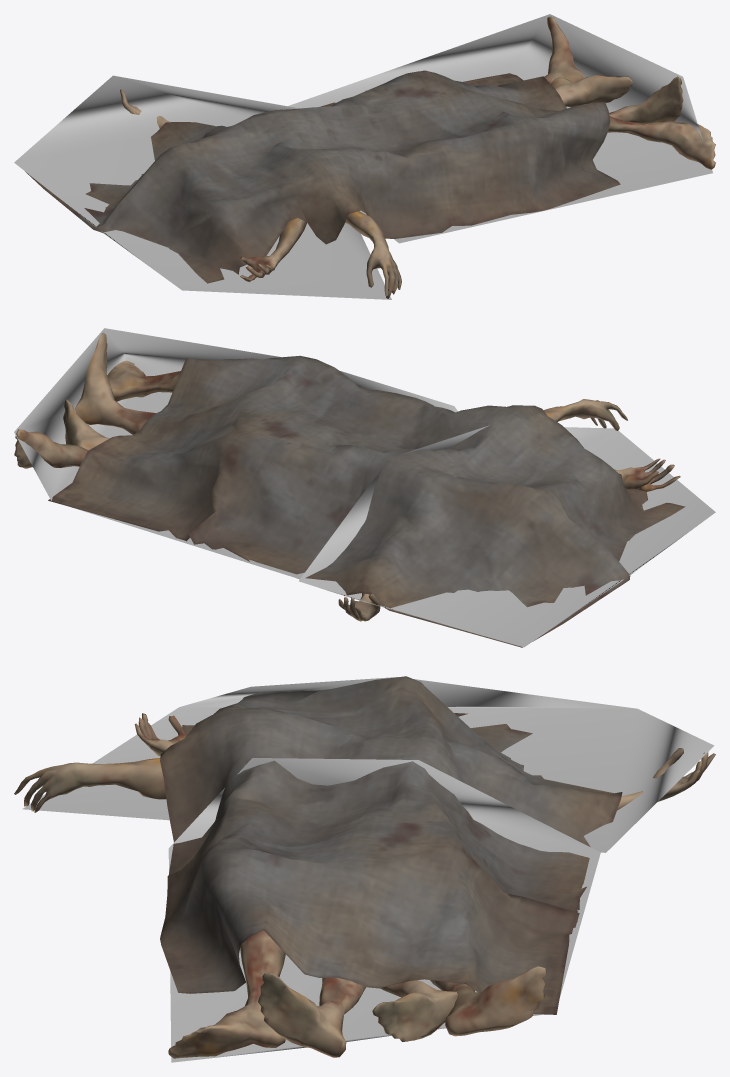
Rendered from SM_CoveredBody_02a.gltf.
3 views of the same model, one above another, from view 1: azimuth 30°, elevation 25°; view 2: azimuth 150°, elevation 25°; view 3: azimuth 270°, elevation 25° (orthographic). The views are drawn at different scales.
Parts seen in each view (by area): view 1: SM_CoveredBody_02a_LOD0, SM_CoveredBody_02a_ConvexHulls; view 2: SM_CoveredBody_02a_LOD0, SM_CoveredBody_02a_ConvexHulls; view 3: SM_CoveredBody_02a_LOD0, SM_CoveredBody_02a_ConvexHulls.
Boxes of the visible parts, left/top/right/bottom form: SM_CoveredBody_02a_LOD0: left=25, top=16, right=715, bottom=298; SM_CoveredBody_02a_ConvexHulls: left=14, top=14, right=712, bottom=299; SM_CoveredBody_02a_LOD0: left=14, top=333, right=685, bottom=647; SM_CoveredBody_02a_ConvexHulls: left=14, top=328, right=715, bottom=647; SM_CoveredBody_02a_LOD0: left=14, top=676, right=715, bottom=1058; SM_CoveredBody_02a_ConvexHulls: left=22, top=677, right=714, bottom=1062.
Size of what is drawn, in the model's own units: 2.35 by 0.3445 by 1.98.
Materials: 2 (1 with a texture image).
